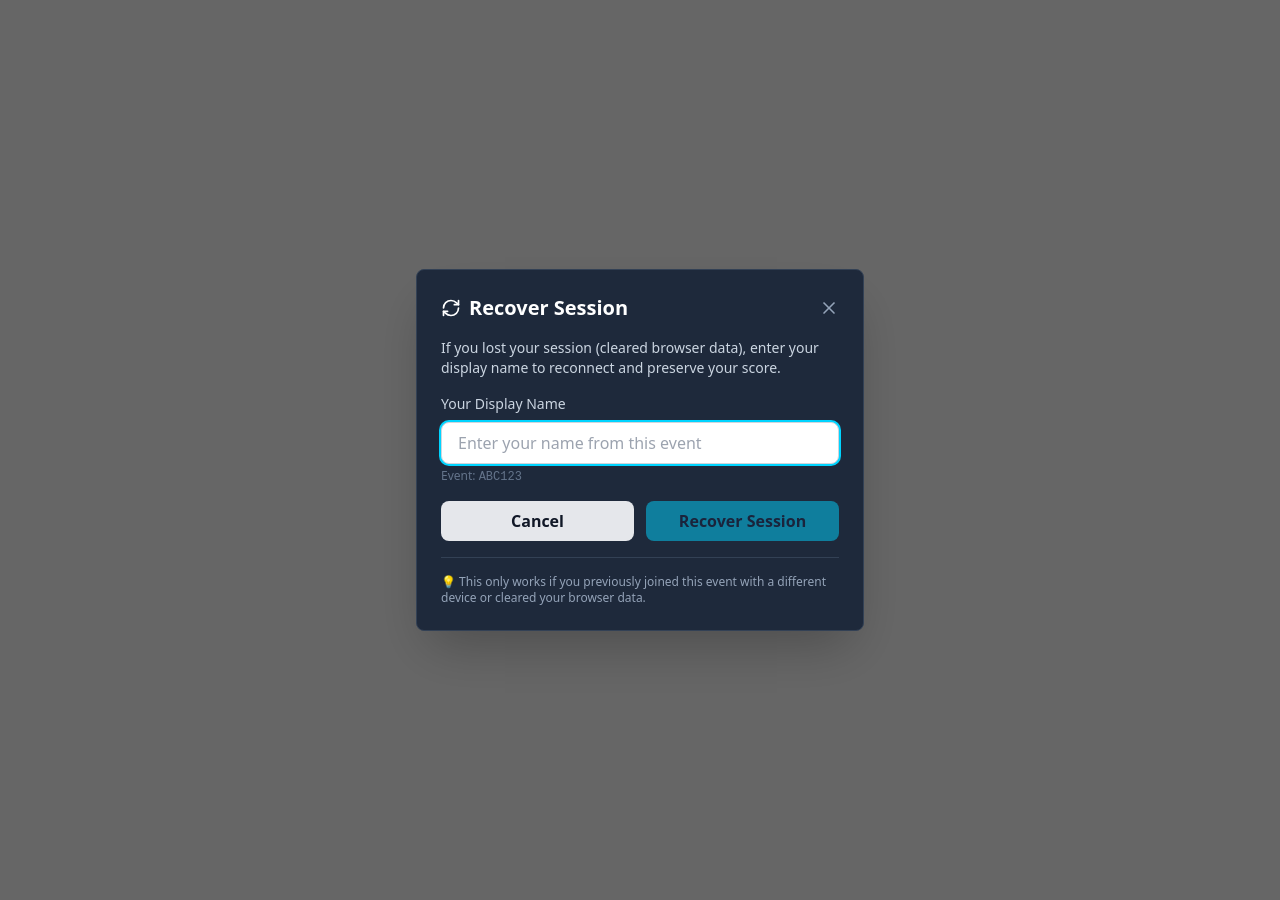
Scenario: RecoverSession › should require display name
expect the button "Recover Session" is disabled: met, box [646,501,839,541]
Note: Type a name
Type "TestUser" into the field with placeholder "Enter your name from this event". click: (640, 443)
box: [441,422,839,464]
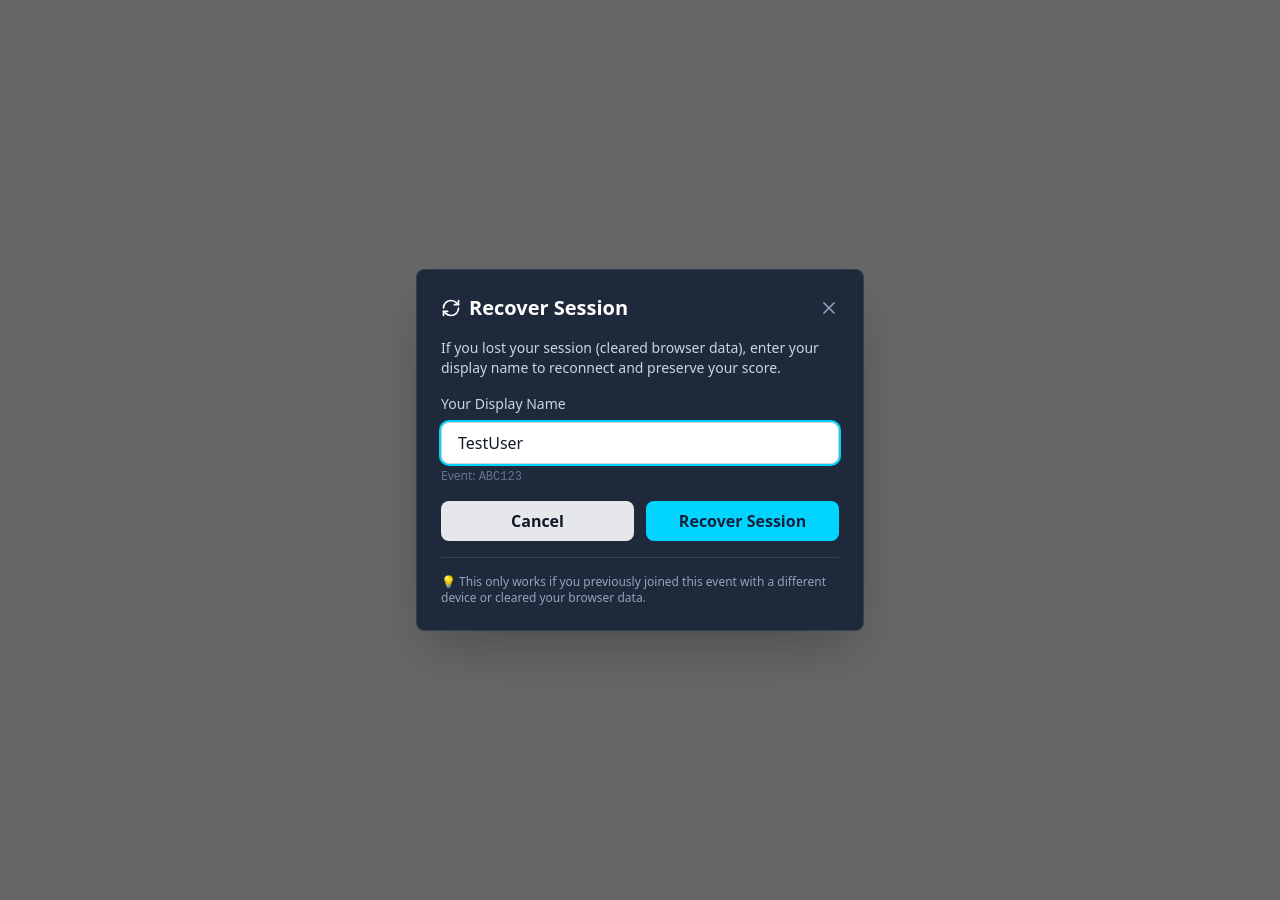
expect the button "Recover Session" is enabled: met, box [646,501,839,541]
